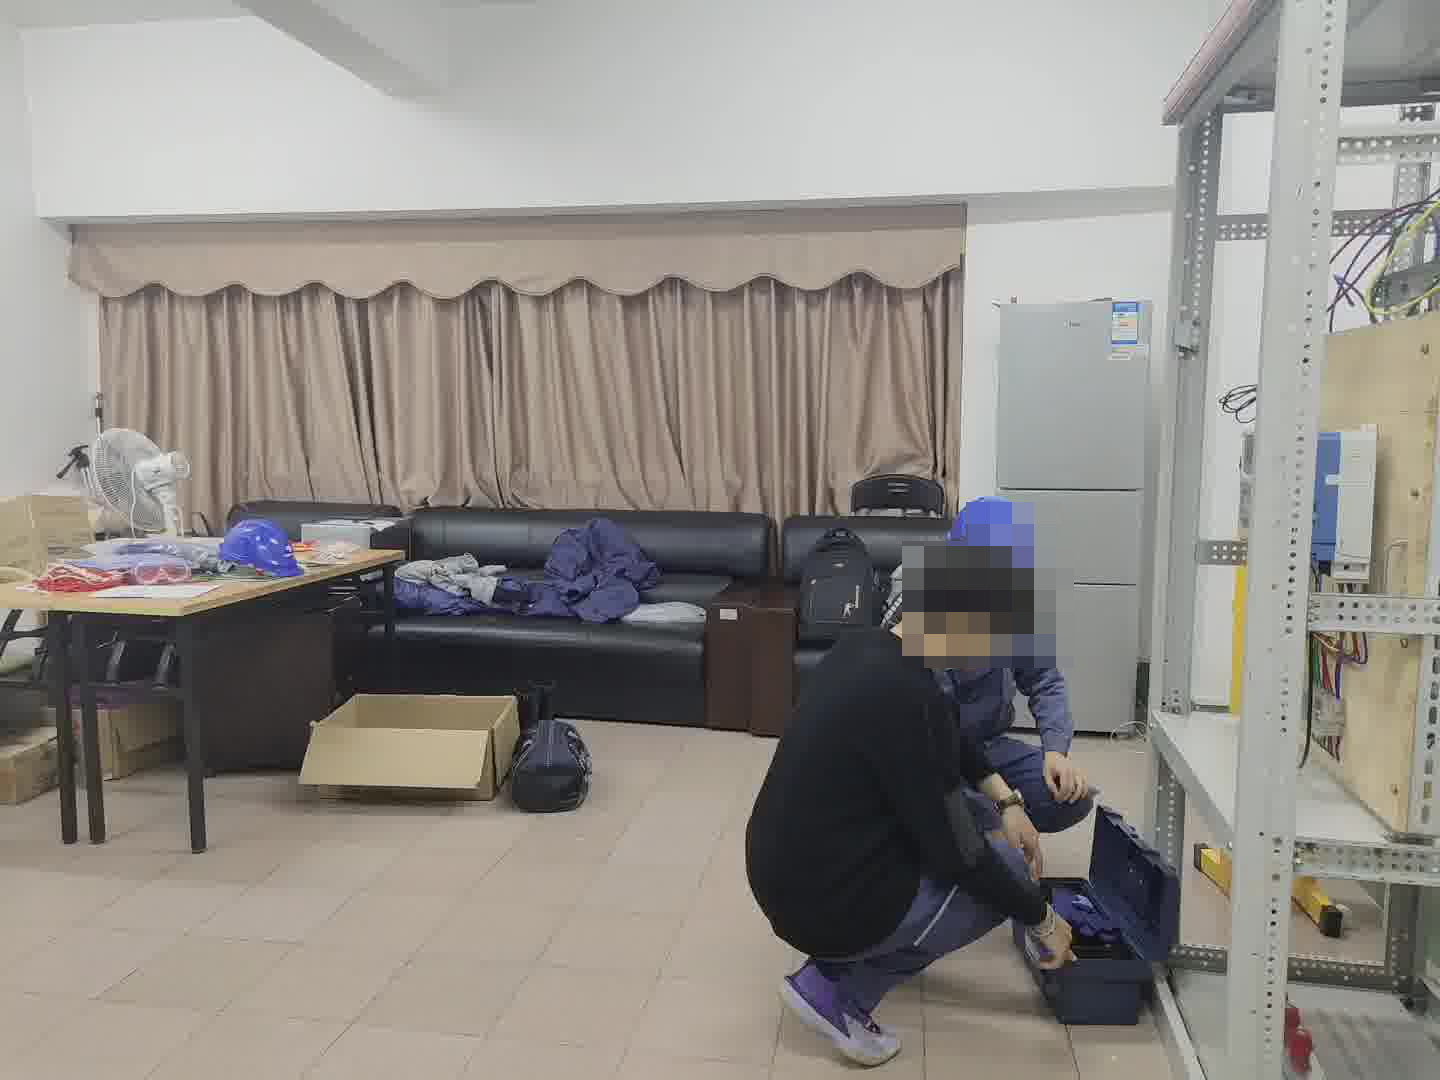hand: (1000, 803, 1046, 881), (1038, 746, 1098, 806), (1039, 907, 1077, 978)
noear: (948, 593, 991, 652)
person: (740, 494, 1103, 1070)
unhalt: (904, 542, 1042, 671)
upcloth: (745, 625, 1046, 950)
